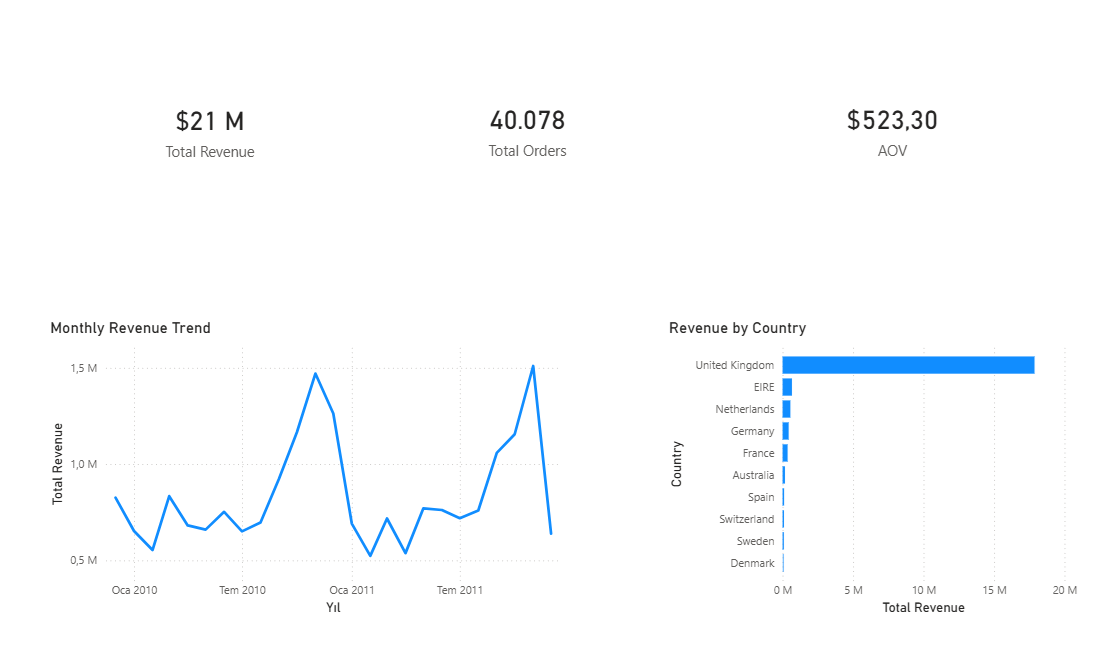

Layout of this report page (visuals, bound fields, positions):
{"tool":"powerbi","page":{"name":"1. sayfa","canvas":[1280,720],"ordinal":0},"visuals":[{"type":"card","fields":{"Values":["Retail_Data.Total Orders"]},"box":[354,17.8,300.5,300.5],"z":0},{"type":"card","fields":{"Values":["Retail_Data.Total Revenue"]},"box":[53.5,17.8,300.5,300.5],"z":1},{"type":"card","fields":{"Values":["Retail_Data.AOV"]},"box":[639.5,17.8,300.5,300.5],"z":2},{"type":"lineChart","fields":{"Y":["Retail_Data.Total Revenue"],"Category":["Retail_Data.InvoiceDate.Varyasyon.Tarih Hiyerarşisi.Yıl","Retail_Data.InvoiceDate.Varyasyon.Tarih Hiyerarşisi.Ay"]},"box":[53.5,329.3,661.4,360.9],"z":3},{"type":"barChart","fields":{"Category":["Retail_Data.Country"],"Y":["Retail_Data.Total Revenue"]},"box":[714.9,318.4,476.2,371.9],"z":4}]}

Visuals, with their boxes on the page's 1280x720 design canvas (x1, y1, x2, y2). These are canvas units, not pixel positions in the 1110x645 screenshot, which may show the page scaled, cropped or inside an application window:
card - Retail_Data.Total Orders: bbox=(354, 18, 654, 318)
card - Retail_Data.Total Revenue: bbox=(54, 18, 354, 318)
card - Retail_Data.AOV: bbox=(640, 18, 940, 318)
lineChart - Retail_Data.Total Revenue x Retail_Data.InvoiceDate.Varyasyon.Tarih Hiyerarşisi.Yıl: bbox=(54, 329, 715, 690)
barChart - Retail_Data.Country x Retail_Data.Total Revenue: bbox=(715, 318, 1191, 690)
